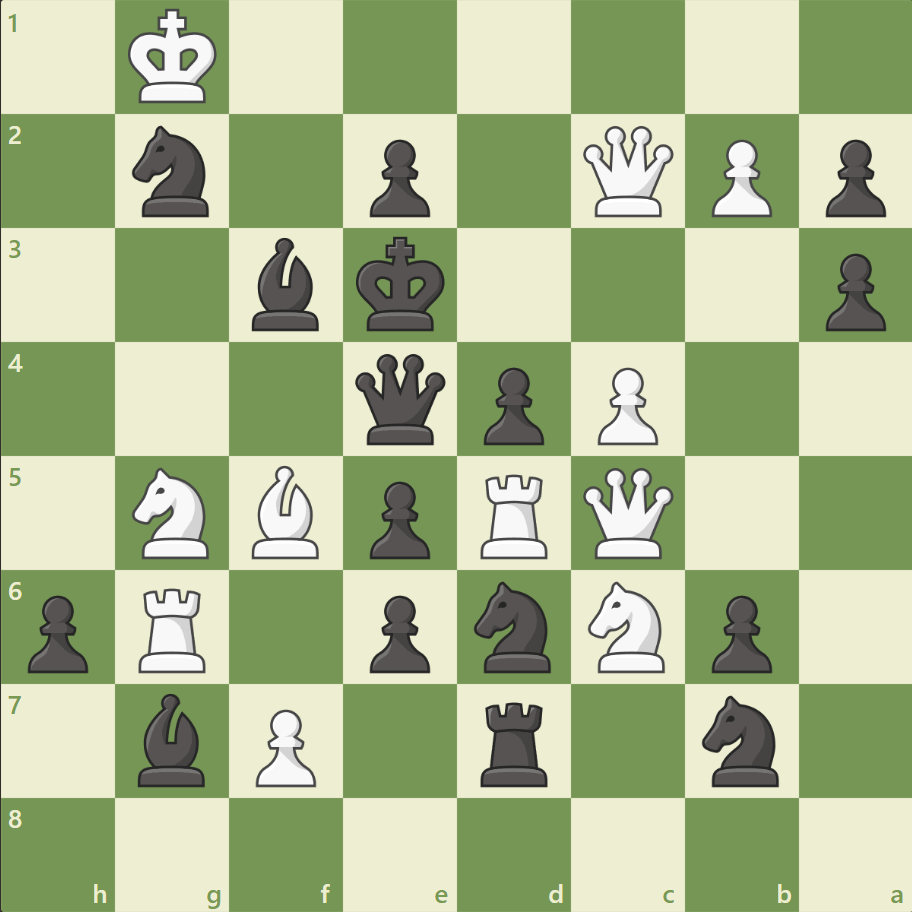B: (244, 460, 328, 563)
K: (124, 4, 224, 112)
N: (124, 461, 222, 564), (579, 575, 676, 677)
P: (247, 700, 322, 791), (701, 132, 776, 223), (588, 359, 662, 450)
Q: (578, 122, 677, 222), (578, 463, 677, 562)
R: (473, 466, 556, 563), (133, 579, 215, 676)
b: (131, 687, 215, 790), (244, 233, 328, 336)
k: (351, 231, 451, 339)
n: (124, 121, 222, 223), (692, 688, 789, 791), (465, 575, 562, 677)
p: (701, 586, 776, 677), (20, 586, 95, 677), (474, 359, 549, 450), (361, 586, 435, 677), (361, 473, 435, 564), (815, 246, 889, 337), (815, 132, 889, 223), (361, 132, 435, 223)
q: (351, 349, 450, 449)
r: (473, 693, 556, 790)
